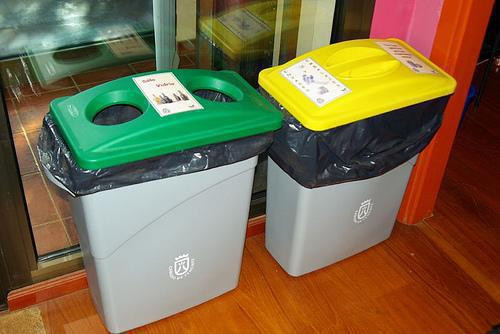Bote de Basura: (49, 36, 270, 330), (271, 39, 450, 269)
